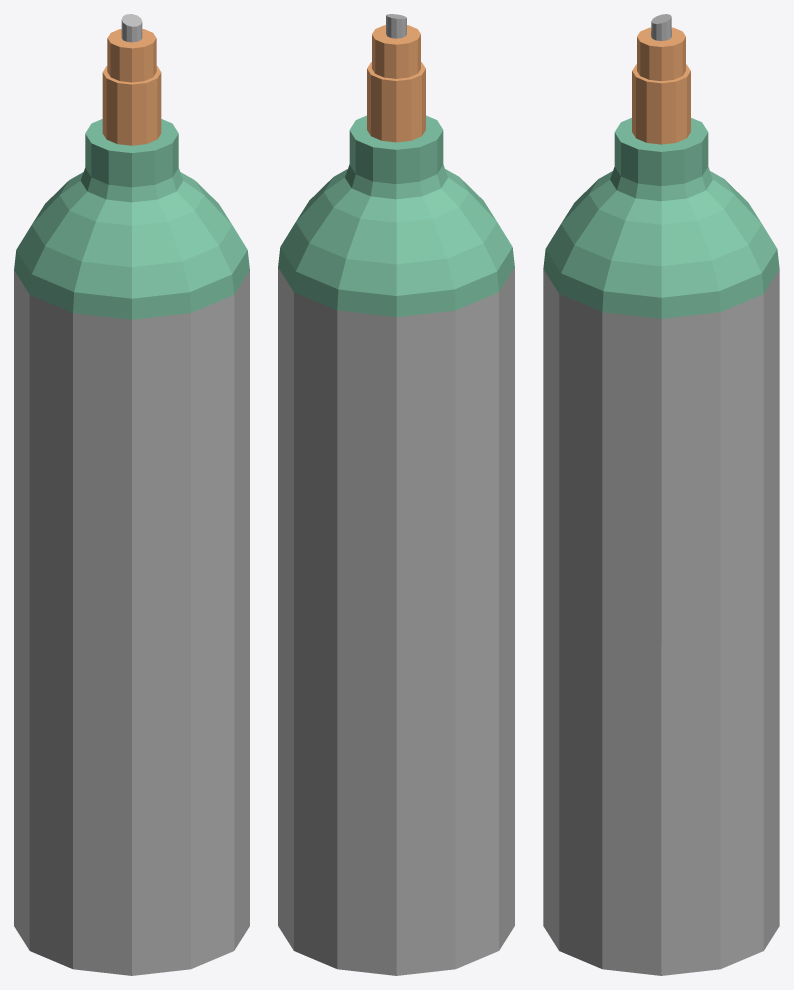
Rendered from oxygen_tank.fbx.
The picture shows the model from 3 angles, left to right: view 1: azimuth 30°, elevation 25°; view 2: azimuth 150°, elevation 25°; view 3: azimuth 270°, elevation 25°; orthographic projection.
Visible parts, largest first — view 1: oxygen_tank; view 2: oxygen_tank; view 3: oxygen_tank.
Part boxes in pixels (x1,y1,x2,y2): oxygen_tank: (14, 14, 249, 975); oxygen_tank: (278, 14, 514, 975); oxygen_tank: (543, 14, 779, 975).
Size of the model in its own units: 107 by 456 by 107.
